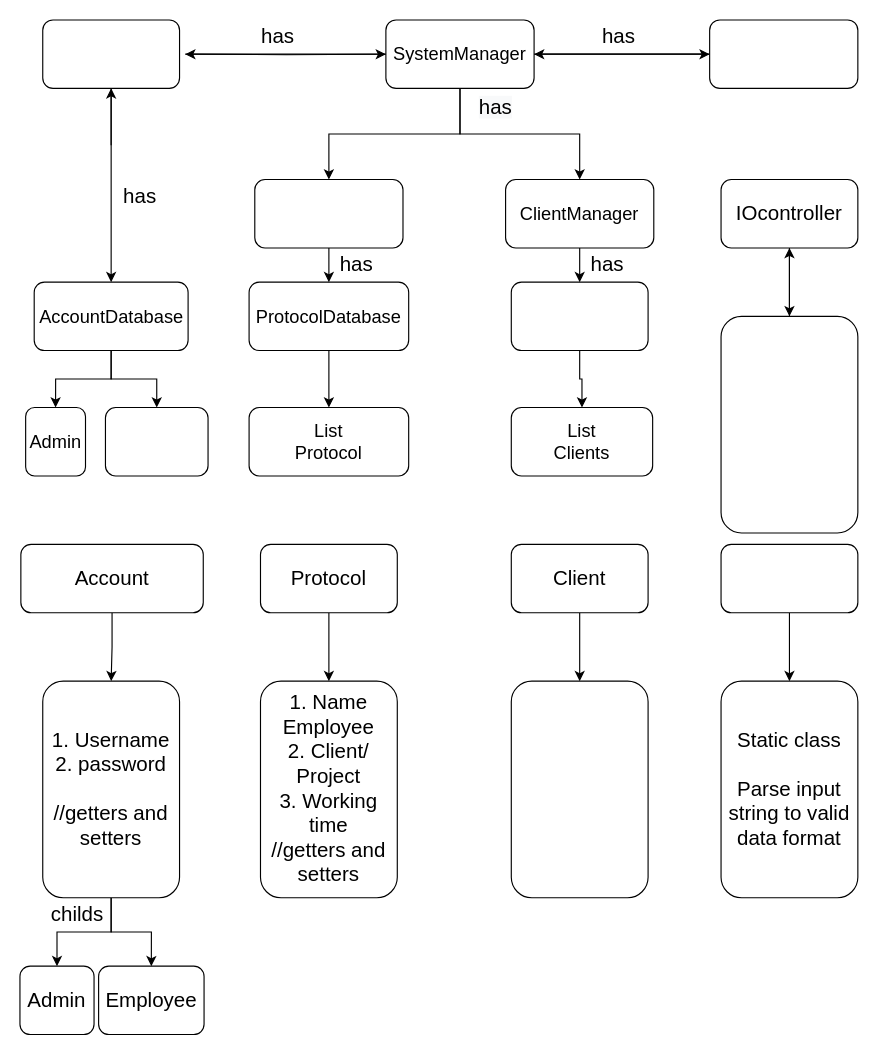
Some shapes in this 878 by 1055 pixel diagram are drawn without their labels. The centre of each missing label's shape, as x and y in pixels:
"1. Name 2. Name of project 3. Expiration date //getters and setters" goes at point 579,789.
"AuthManager" goes at point 111,53.
"ClientDatabase" goes at point 579,316.
"ConsoleManager" goes at point 783,53.
"DateParser" goes at point 789,578.
"List Employees" goes at point 156,441.
"ProtocolManager" goes at point 328,213.
"Static class read write data to files" goes at point 789,424.
